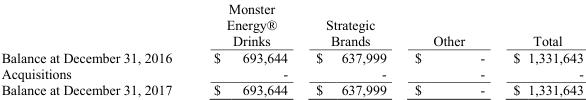table: (0, 0, 582, 97)
table column: (0, 0, 192, 97), (192, 0, 301, 97), (399, 0, 498, 97), (301, 0, 399, 97), (498, 0, 582, 97)
table column header: (0, 0, 582, 48)
table row: (0, 0, 582, 48), (0, 48, 582, 65), (0, 65, 582, 81), (0, 81, 582, 97)
